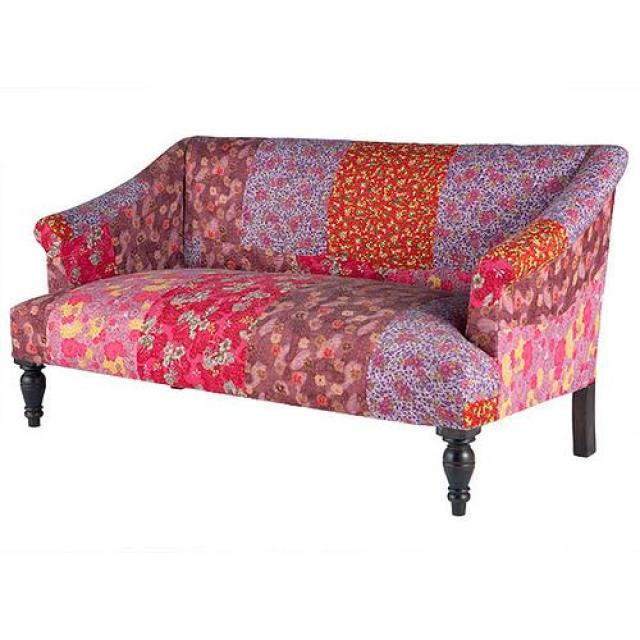sofa: (11, 131, 632, 521)
